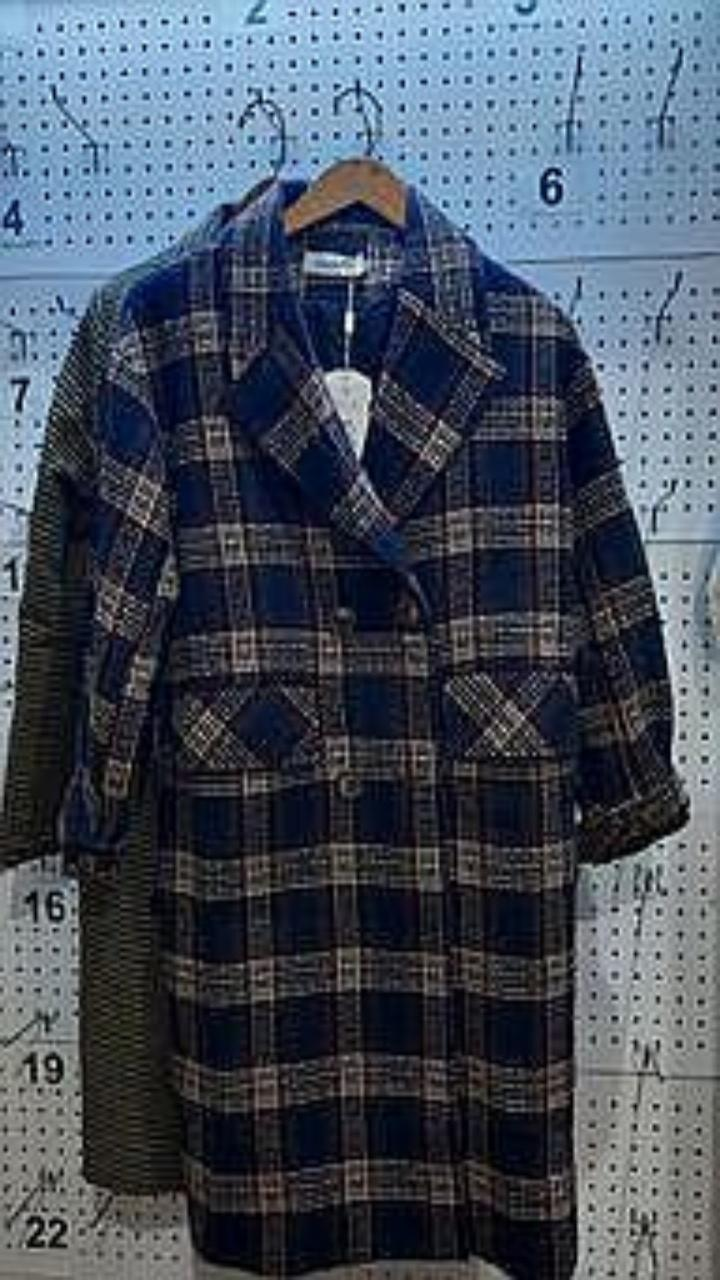Coat: (58, 181, 687, 1279), (0, 180, 266, 869)
